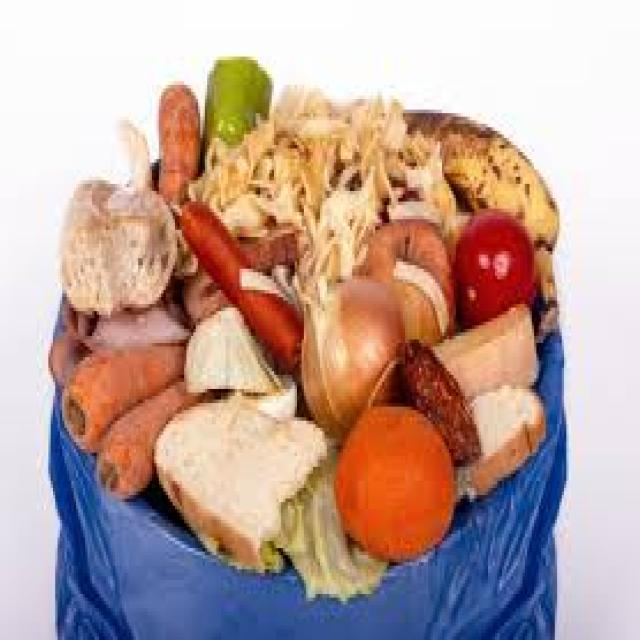food_waste: (51, 57, 557, 594)
